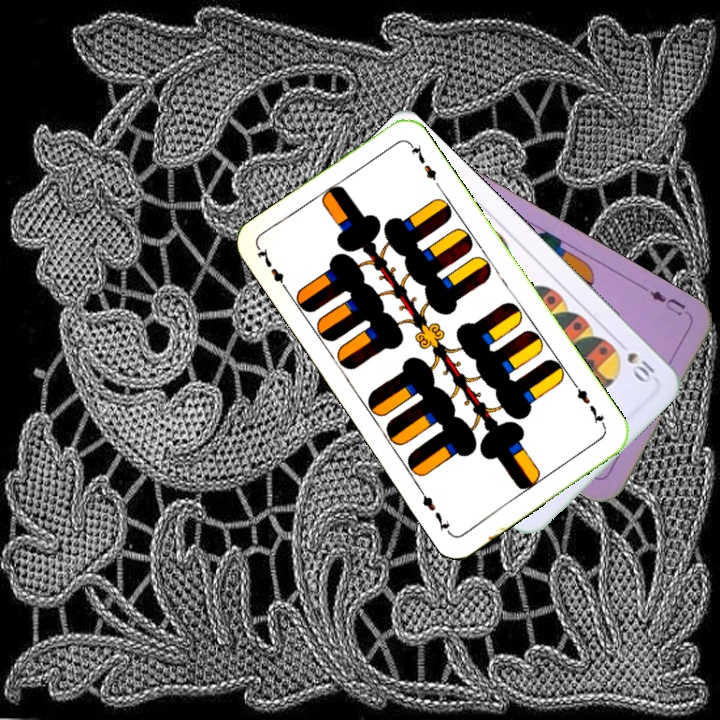E7: (569, 379, 609, 431), (253, 244, 292, 296)
EU: (641, 283, 694, 321)
S10: (613, 336, 658, 385)
